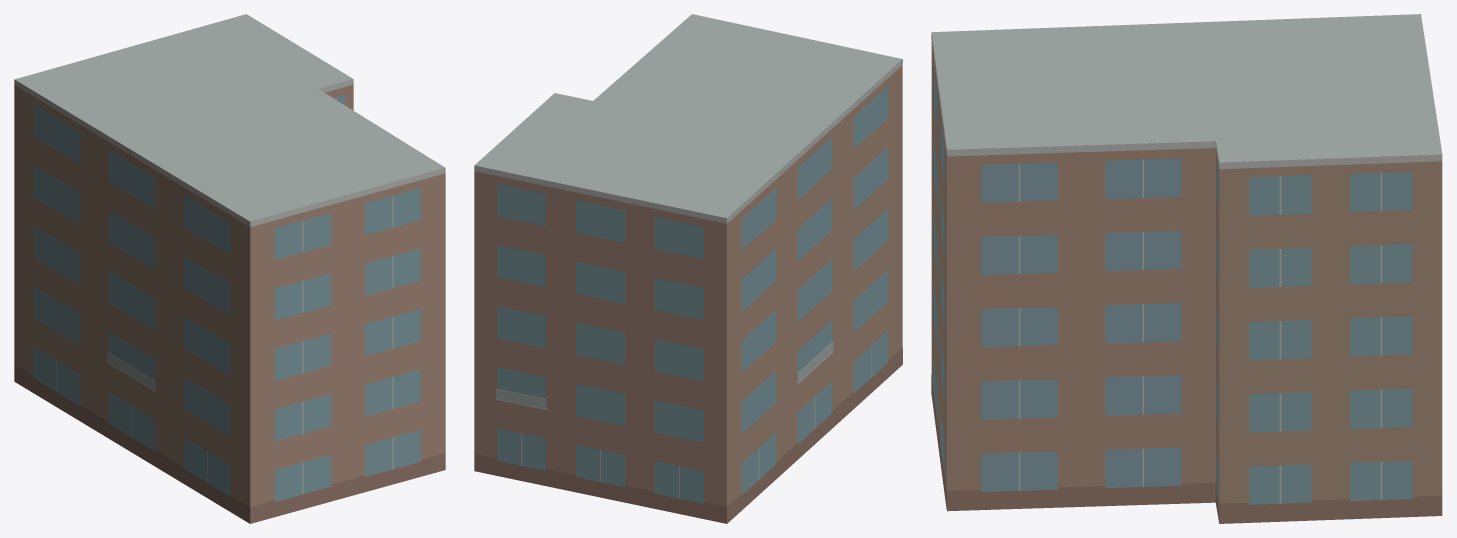
File: survey-upis-32577630.glb
3 views of the same model, side by side, from view 1: azimuth 30°, elevation 25°; view 2: azimuth 150°, elevation 25°; view 3: azimuth 270°, elevation 25° (orthographic). The views are drawn at different scales.
Parts seen in each view (by area): view 1: survey-upis-32577630.tmp; view 2: survey-upis-32577630.tmp; view 3: survey-upis-32577630.tmp.
Part boxes in pixels (x1,y1,x2,y2): survey-upis-32577630.tmp: (14,14,445,523); survey-upis-32577630.tmp: (474,14,902,523); survey-upis-32577630.tmp: (931,14,1442,523).
Size of the model in its own units: 11.7 by 13.25 by 17.
